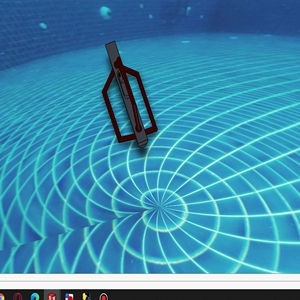submarine: (103, 46, 158, 146)
